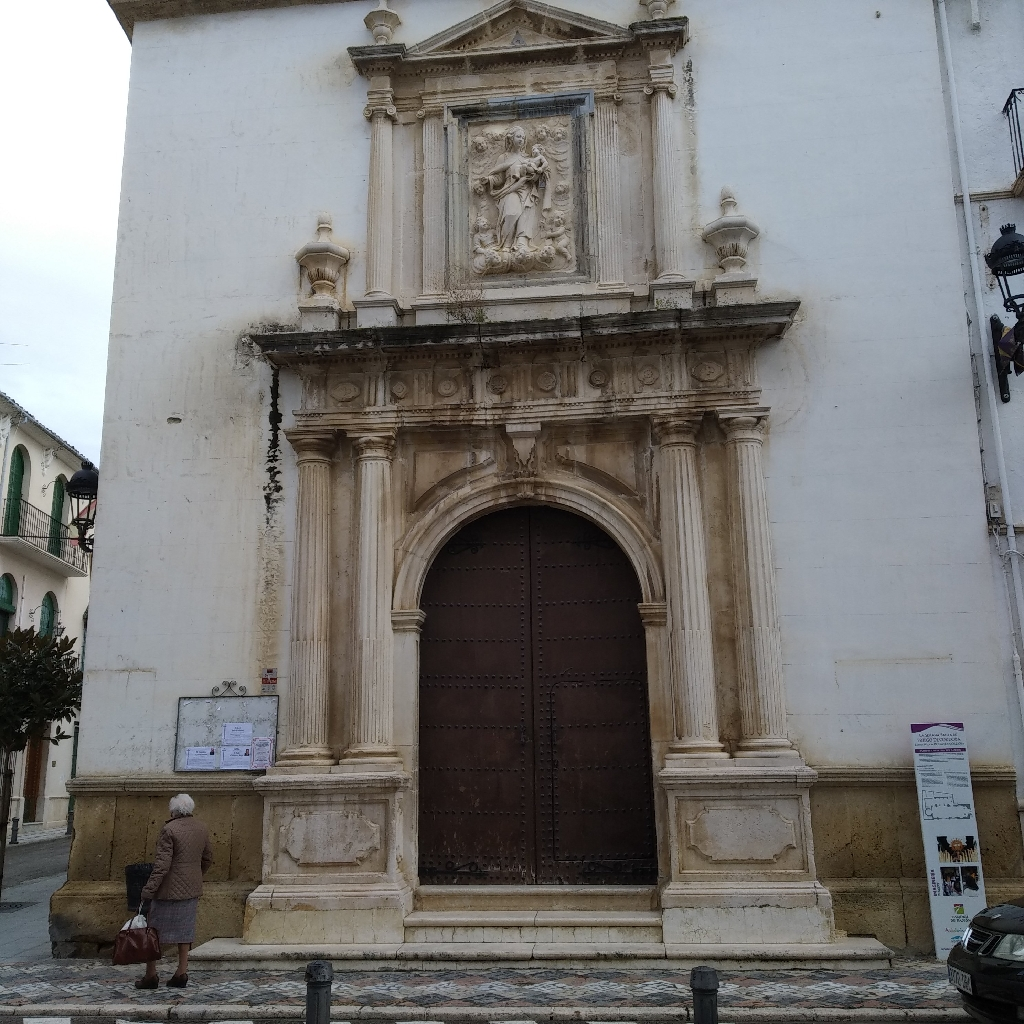arco-medio-punto: (405, 478, 660, 649)
fronton: (383, 0, 630, 67)
